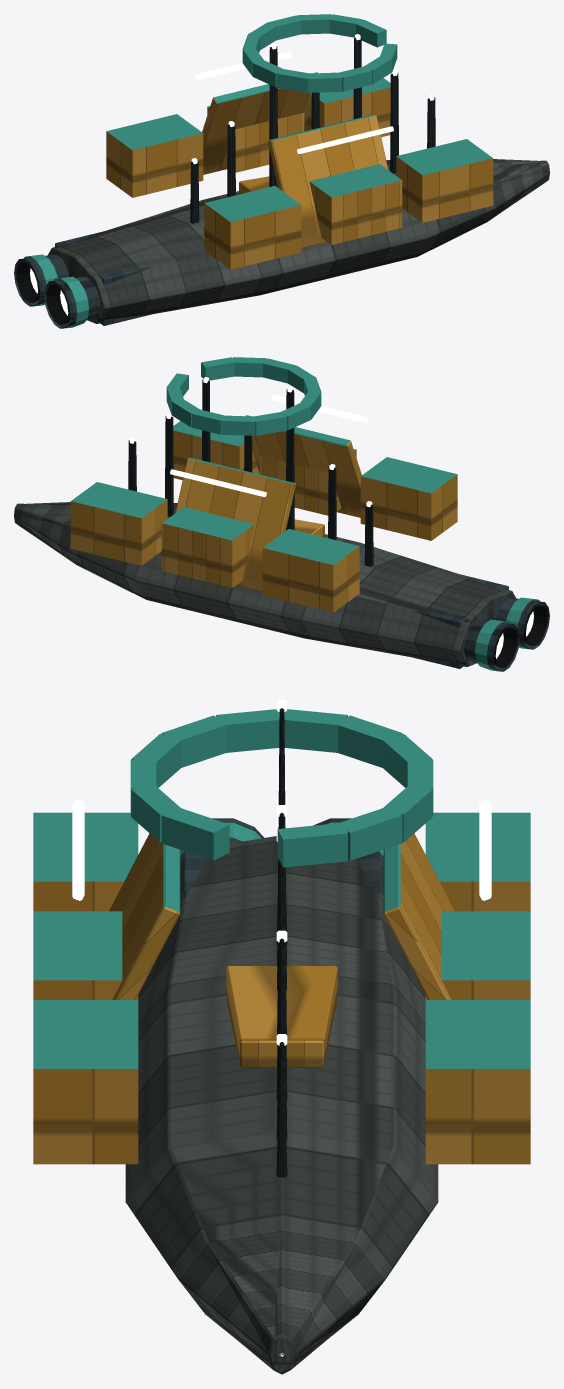
The model's file is ewar.glb.
The picture shows the model from 3 angles, top to bottom: view 1: azimuth 30°, elevation 25°; view 2: azimuth 150°, elevation 25°; view 3: azimuth 270°, elevation 25°; orthographic projection. The views are drawn at different scales.
Visible parts, largest first — view 1: ewar; view 2: ewar; view 3: ewar.
Part boxes in pixels (x1,y1,x2,y2): ewar: (14,14,549,328); ewar: (14,357,549,671); ewar: (33,700,530,1374).
Size of the model in its own units: 28 by 12.17 by 11.93.
1 material, 1 textured.
